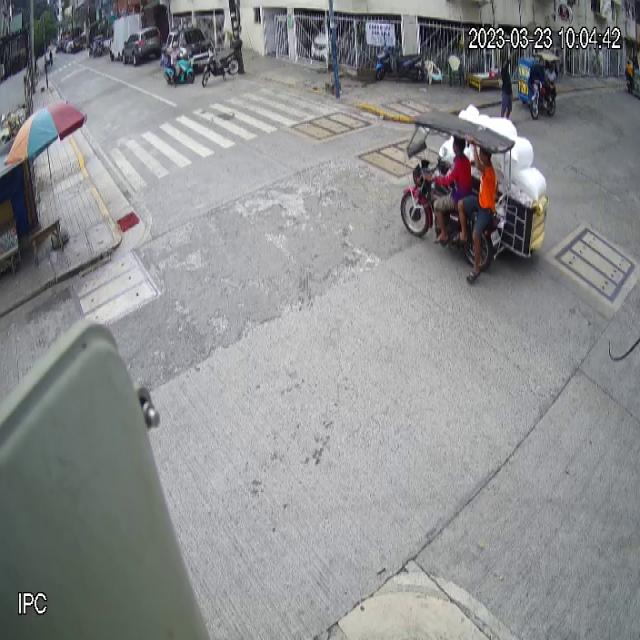Tricycle: (400, 111, 515, 271)
